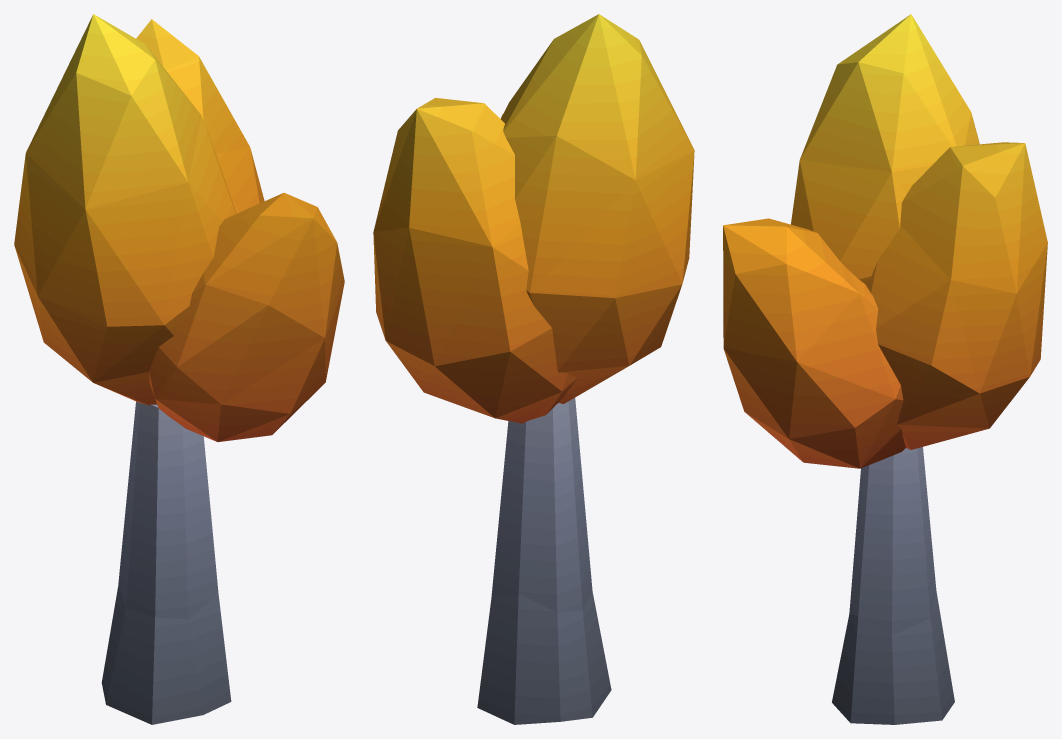
File: Birch_F.glb
3 views of the same model, side by side, from view 1: azimuth 30°, elevation 25°; view 2: azimuth 150°, elevation 25°; view 3: azimuth 270°, elevation 25° (orthographic). The views are drawn at different scales.
Visible parts, largest first — view 1: Birch_Leaves1_K, Birch_Leaves3_K, Birch_Trunk_K, Birch_Leaves2_K; view 2: Birch_Leaves1_K, Birch_Leaves2_K, Birch_Trunk_K; view 3: Birch_Leaves2_K, Birch_Leaves3_K, Birch_Leaves1_K, Birch_Trunk_K.
Part boxes in pixels (x1=…): Birch_Leaves1_K: x1=14, y1=14, x2=236, y2=405; Birch_Leaves3_K: x1=149, y1=192, x2=344, y2=441; Birch_Trunk_K: x1=101, y1=401, x2=231, y2=724; Birch_Leaves2_K: x1=136, y1=19, x2=264, y2=213; Birch_Leaves1_K: x1=501, y1=14, x2=694, y2=403; Birch_Leaves2_K: x1=373, y1=97, x2=577, y2=423; Birch_Trunk_K: x1=477, y1=398, x2=611, y2=724; Birch_Leaves2_K: x1=865, y1=142, x2=1047, y2=449; Birch_Leaves3_K: x1=723, y1=218, x2=905, y2=468; Birch_Leaves1_K: x1=791, y1=14, x2=979, y2=283; Birch_Trunk_K: x1=832, y1=447, x2=954, y2=724.
Bounding box in the file's own units: 1.63 × 4.14 × 1.85.
1 material, 1 textured.
